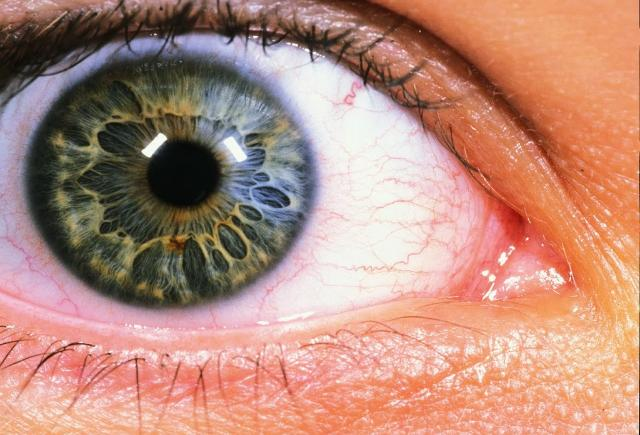eye: (22, 45, 322, 313)
